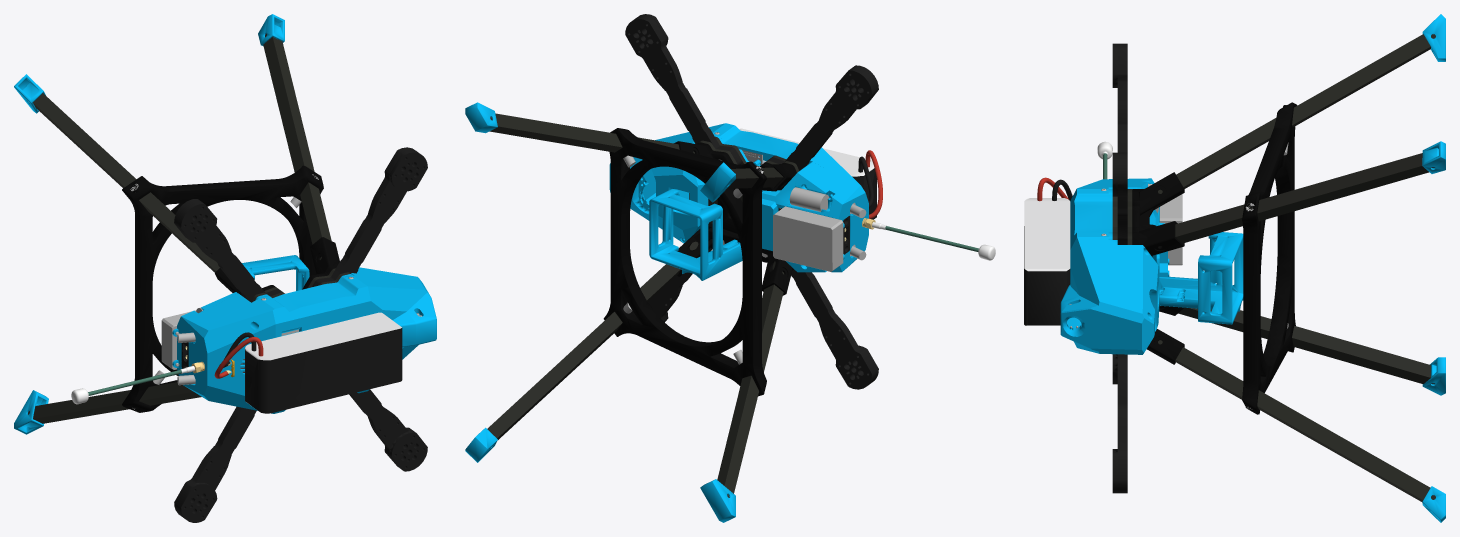
The model's file is body.obj.
The picture shows the model from 3 angles, left to right: view 1: azimuth 30°, elevation 25°; view 2: azimuth 150°, elevation 25°; view 3: azimuth 270°, elevation 25°; orthographic projection. The views are drawn at different scales.
Parts seen in each view (by area): view 1: П-3_v3; view 2: П-3_v3; view 3: П-3_v3.
Part boxes in pixels (box(x1,y1,x2,y2)): П-3_v3: box(14, 14, 436, 522); П-3_v3: box(465, 14, 995, 522); П-3_v3: box(1024, 14, 1445, 522).
Size of the model in its own units: 458 by 427 by 428.
